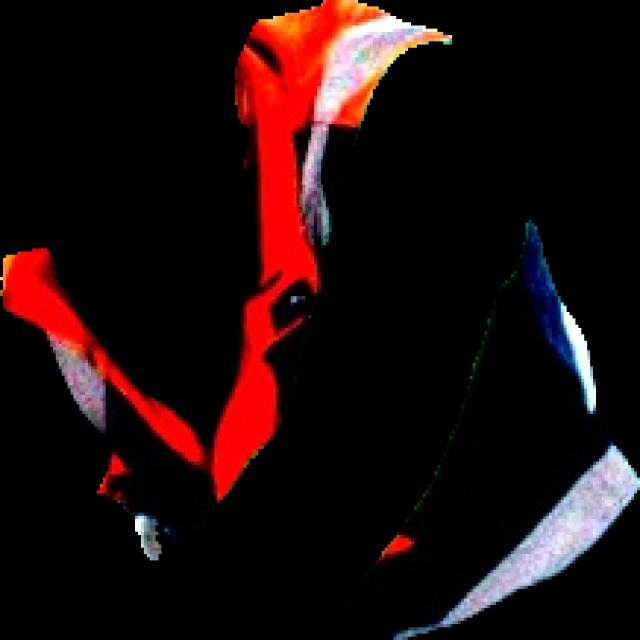Colete: (0, 0, 452, 560)
